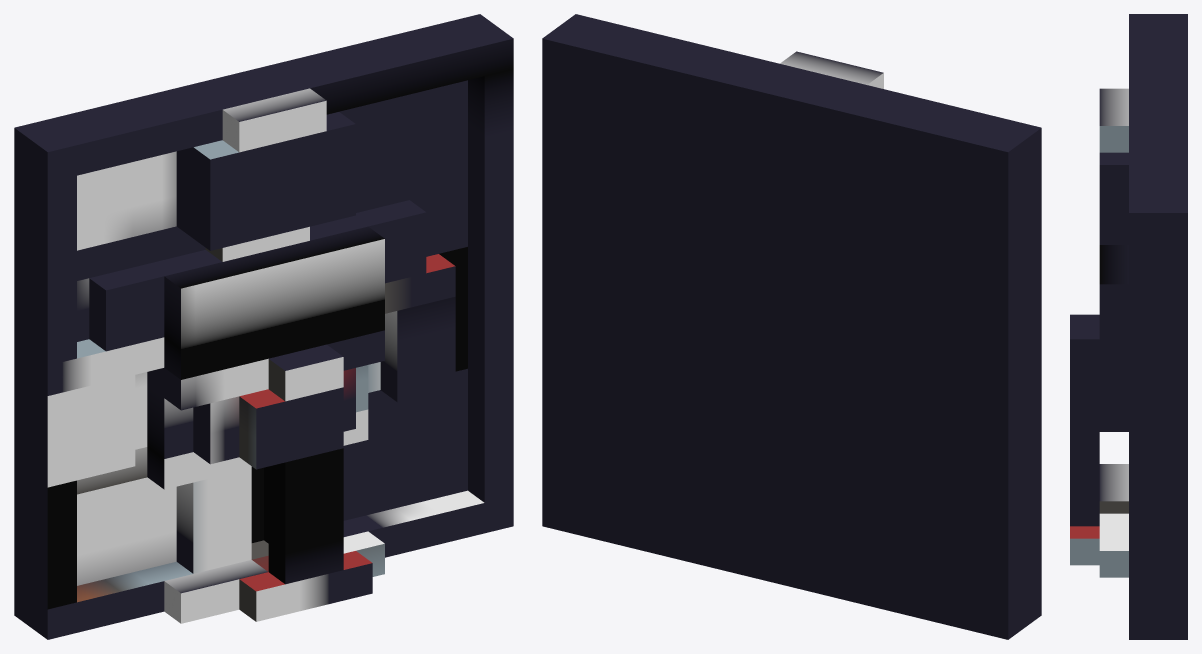
File: hero1.fbx
3 renders of one model, left to right at view 1: azimuth 30°, elevation 25°; view 2: azimuth 150°, elevation 25°; view 3: azimuth 270°, elevation 25°, orthographic. The views are drawn at different scales.
Visible parts, largest first — view 1: hero1; view 2: hero1; view 3: hero1.
Boxes of the visible parts, left/top/right/bottom form: hero1: left=14, top=14, right=513, bottom=639; hero1: left=542, top=14, right=1041, bottom=639; hero1: left=1070, top=14, right=1187, bottom=639.
Size of the model in its own units: 16 by 16 by 4.
